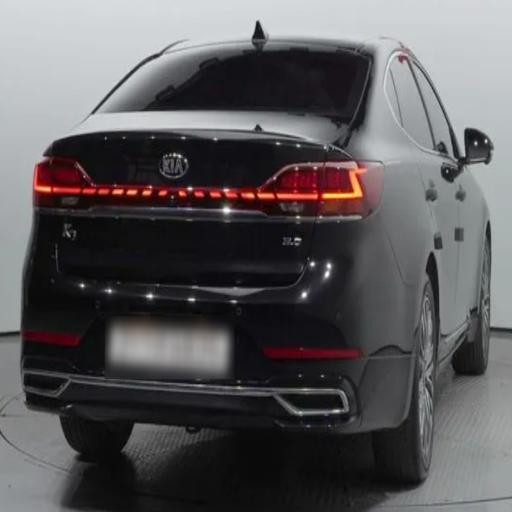scratch: (24, 88, 402, 281)
